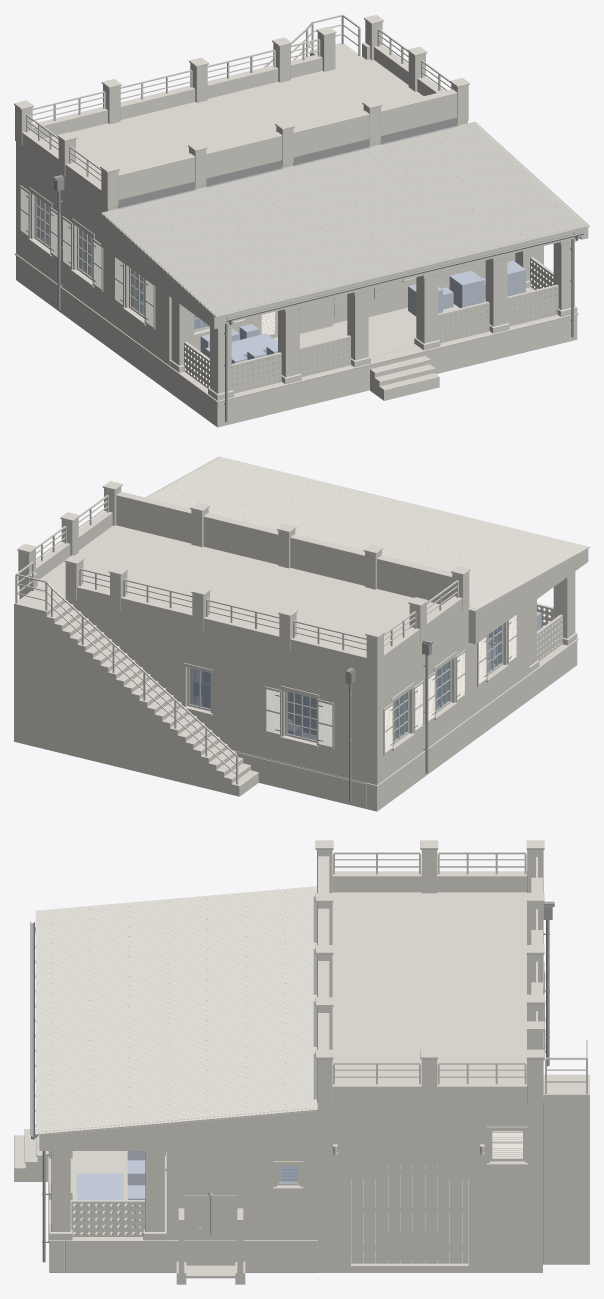
The model's file is filaos_H01.glb.
The picture shows the model from 3 angles, top to bottom: view 1: azimuth 30°, elevation 25°; view 2: azimuth 150°, elevation 25°; view 3: azimuth 270°, elevation 25°; orthographic projection. The views are drawn at different scales.
Visible parts, largest first — view 1: DT_Roof_corrugated, Parapet_Terrace_Front, Slab_Terrace_Rear, Veranda_Pillars, Plinth_Front, DT_Cement_block_panels, Wall_West_Rear, Ceiling_Front, Wall_Back, Plinth_West, new_railing_steel_blue, Wall_Facade_Front (+16 smaller); view 2: Wall_Back, Stair_Block_Terrace, DT_Roof_corrugated, Parapet_Terrace_Front, Slab_Terrace_Rear, Wall_West_Rear, new_railing_steel_blue, Plinth_West, DT_Shutters, glass, paint_clean, Ceiling_Front (+10 smaller); view 3: DT_Roof_corrugated, Slab_Terrace_Rear, Wall_East_Rear_Garage, DoorRoll_01, Parapet_Terrace_Front, Wall_East_Front, Stair_Block_Terrace, Ceiling_Front, Plinth_East, DT_Shower_pebble, Wall_West_Rear, Veranda_Pillars (+15 smaller).
Boxes of the visible parts, box(x1,y1,x2,y2) form: DT_Roof_corrugated: box(103, 123, 586, 315); Parapet_Terrace_Front: box(14, 15, 469, 285); Slab_Terrace_Rear: box(42, 59, 423, 181); Veranda_Pillars: box(169, 238, 577, 400); Plinth_Front: box(211, 315, 577, 427); DT_Cement_block_panels: box(184, 257, 558, 393); Wall_West_Rear: box(16, 130, 115, 320); Ceiling_Front: box(101, 214, 588, 335); Wall_Back: box(32, 42, 370, 237); Plinth_West: box(16, 256, 210, 422); new_railing_steel_blue: box(26, 14, 451, 180); Wall_Facade_Front: box(164, 253, 515, 365); Wall_Back: box(27, 572, 368, 783); Stair_Block_Terrace: box(14, 590, 258, 796); DT_Roof_corrugated: box(147, 456, 587, 609); Parapet_Terrace_Front: box(17, 481, 470, 748); Slab_Terrace_Rear: box(37, 525, 441, 653); Wall_West_Rear: box(369, 596, 468, 785); new_railing_steel_blue: box(15, 495, 458, 784); Plinth_West: box(366, 646, 570, 811); DT_Shutters: box(264, 613, 517, 755); glass: box(189, 626, 501, 741); paint_clean: box(185, 622, 506, 744); Ceiling_Front: box(468, 549, 588, 679); DT_Roof_corrugated: box(37, 886, 313, 1132); Slab_Terrace_Rear: box(332, 892, 527, 1081); Wall_East_Rear_Garage: box(317, 1081, 542, 1272); DoorRoll_01: box(351, 1159, 468, 1263); Parapet_Terrace_Front: box(315, 840, 545, 1165); Wall_East_Front: box(178, 1151, 317, 1240); Stair_Block_Terrace: box(543, 1074, 589, 1264); Ceiling_Front: box(39, 1111, 317, 1189); Plinth_East: box(65, 1242, 317, 1272); DT_Shower_pebble: box(184, 1195, 237, 1278); Wall_West_Rear: box(332, 871, 527, 892); Veranda_Pillars: box(49, 1151, 166, 1240).
Bounding box in the file's own units: 14 × 6.1 × 14.7.
